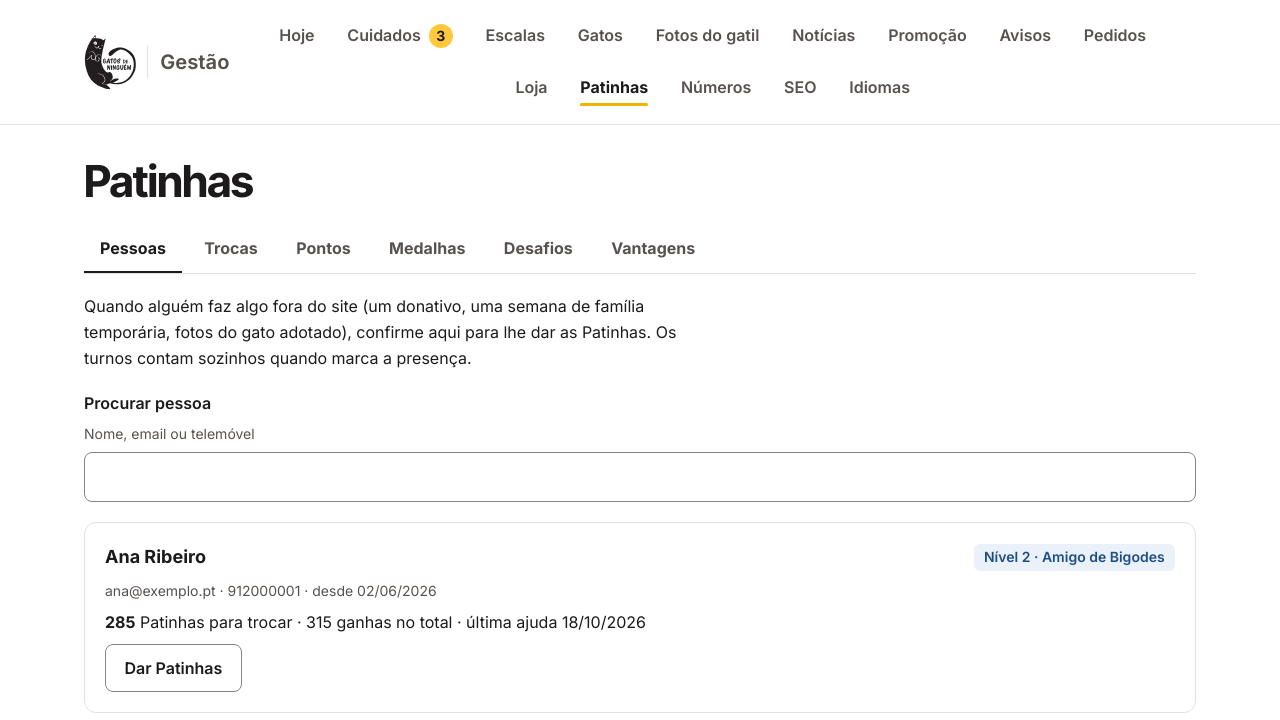
Test: Patinhas › finds a person by mobile number
The image size is (1280, 720).
Check: the list item "Ana Ribeiro" is shown, box [84, 522, 1196, 713]
Type "913 000" into the field labelled "Procurar pessoa".
click(640, 477); type("913 000")  # box [84, 452, 1196, 502]
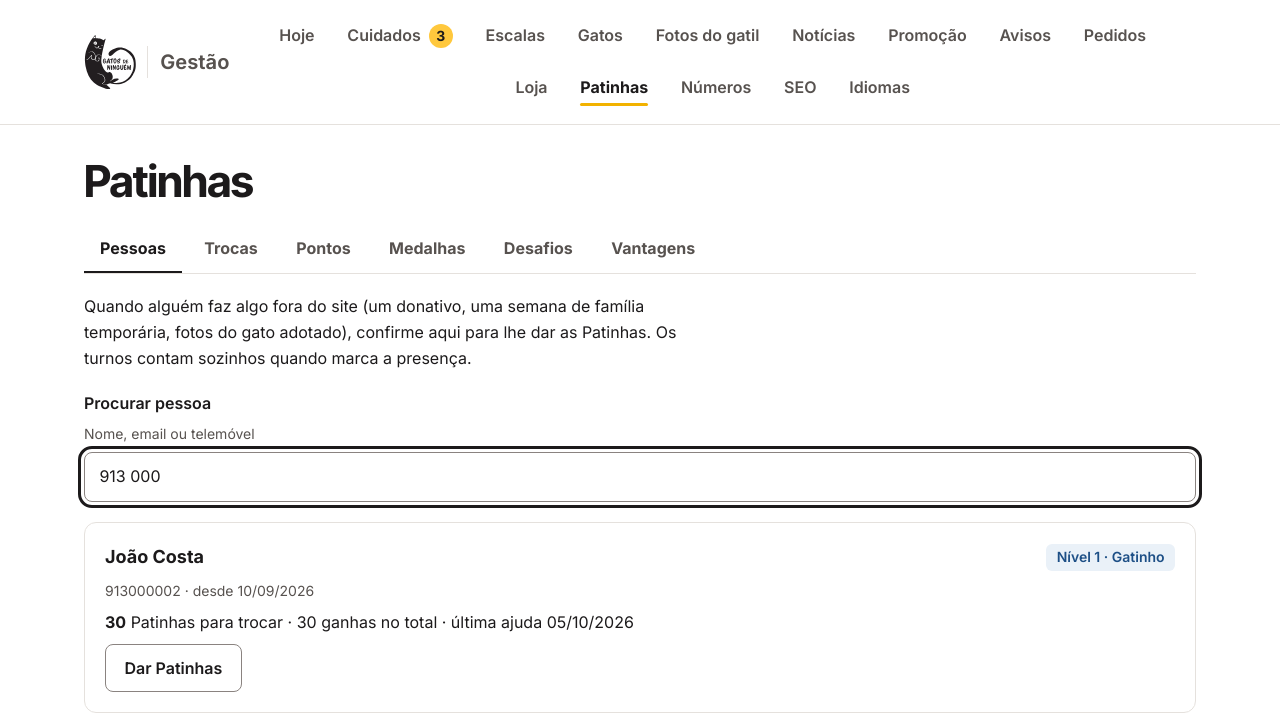
Check: the list item "João Costa" is shown, box [84, 522, 1196, 713]
Check: the text "Ana Ribeiro" is gone
